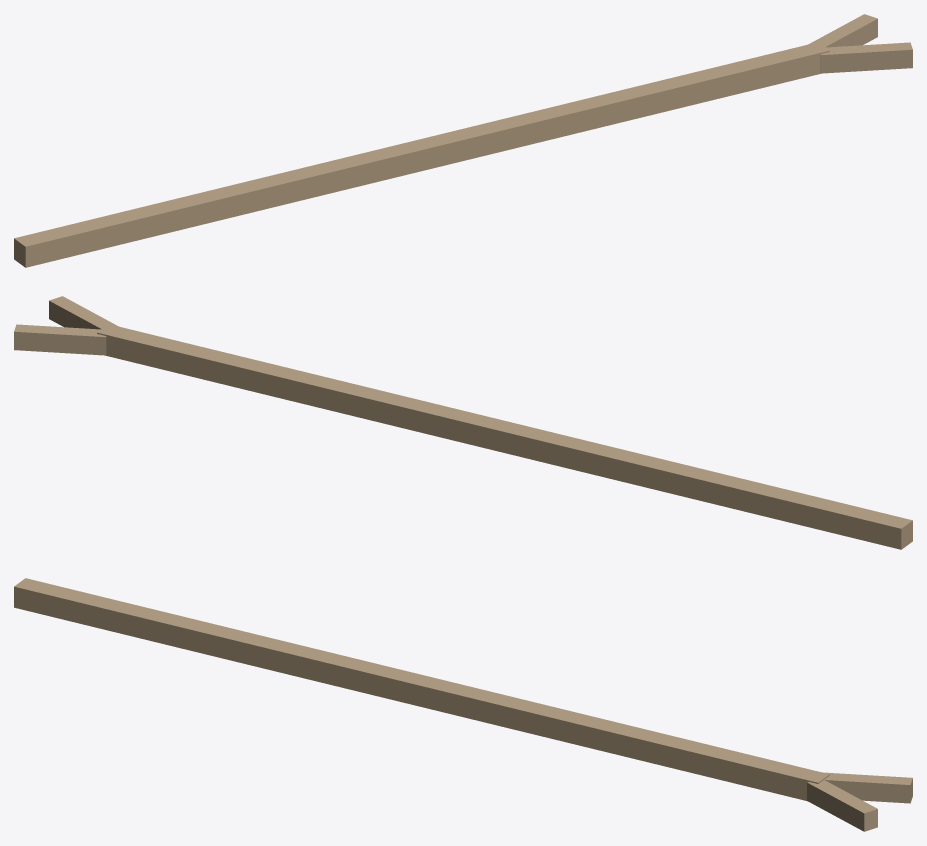
Rendered from prop-clothes-prop-blank.fbx.
The picture shows the model from 3 angles, top to bottom: view 1: azimuth 30°, elevation 25°; view 2: azimuth 150°, elevation 25°; view 3: azimuth 330°, elevation 25°; orthographic projection.
Visible parts, largest first — view 1: prop-clothes-prop-blank; view 2: prop-clothes-prop-blank; view 3: prop-clothes-prop-blank.
Part boxes in pixels (box(x1,y1,x2,y2)): prop-clothes-prop-blank: box(14, 14, 912, 267); prop-clothes-prop-blank: box(14, 296, 912, 549); prop-clothes-prop-blank: box(14, 578, 912, 831).
Bounding box in the file's own units: 174 × 4 × 16.78.
